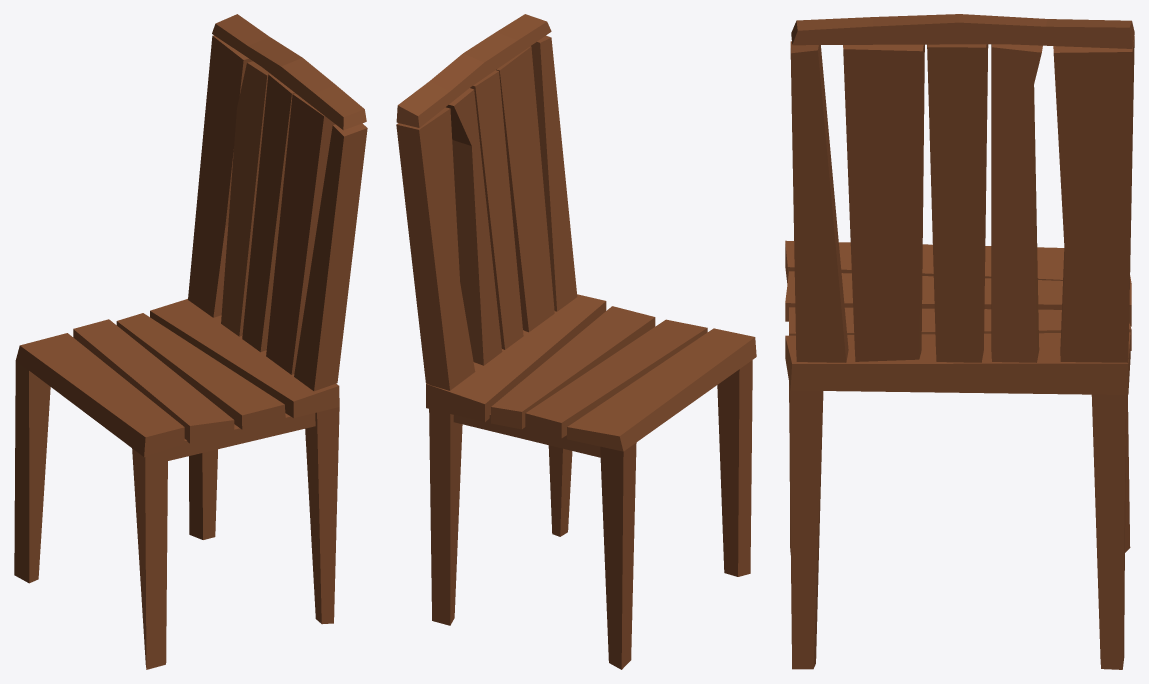
The model's file is chairwoodsimple02.gltf.
3 renders of one model, left to right at view 1: azimuth 30°, elevation 25°; view 2: azimuth 150°, elevation 25°; view 3: azimuth 270°, elevation 25°, orthographic. The views are drawn at different scales.
Visible parts, largest first — view 1: Cube; view 2: Cube; view 3: Cube.
Part boxes in pixels (box(x1,y1,x2,y2)): Cube: box(14, 14, 367, 669); Cube: box(396, 14, 756, 669); Cube: box(785, 14, 1134, 669).
Size of the model in its own units: 0.4918 by 1.06 by 0.5047.
1 material, 1 textured.
